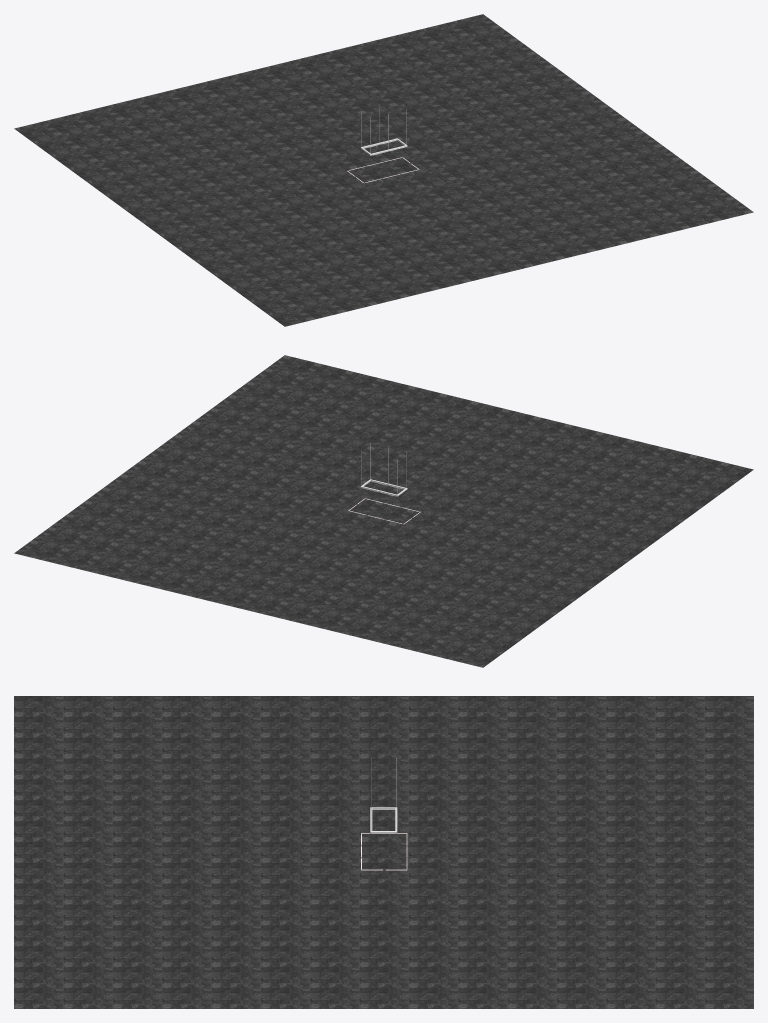
The model's file is studio.glb.
The picture shows the model from 3 angles, top to bottom: view 1: azimuth 30°, elevation 25°; view 2: azimuth 150°, elevation 25°; view 3: azimuth 270°, elevation 25°; orthographic projection. The views are drawn at different scales.
Parts seen in each view (by area): view 1: floor.001; view 2: floor.001; view 3: floor.001.
Part boxes in pixels (box(x1,y1,x2,y2)): floor.001: box(14, 14, 753, 326); floor.001: box(14, 355, 753, 667); floor.001: box(14, 696, 753, 1008).
Bounding box in the file's own units: 227 × 28.09 × 227.
Materials: 3 (1 with a texture image).
